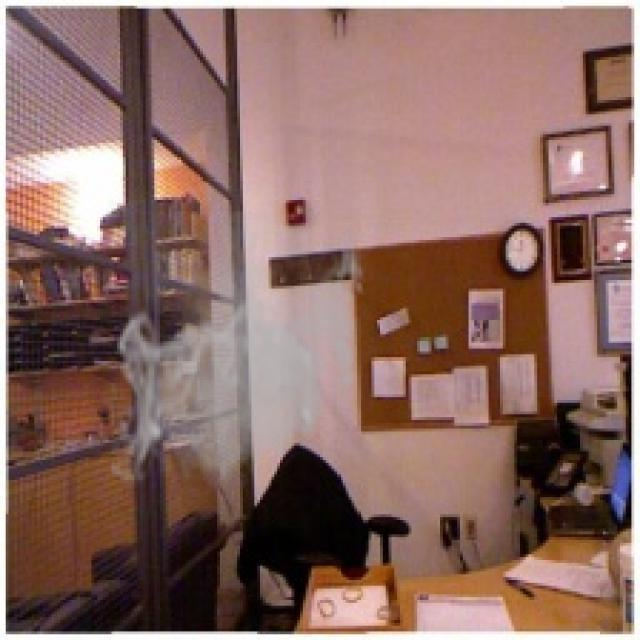Smoke: (111, 212, 372, 492)
